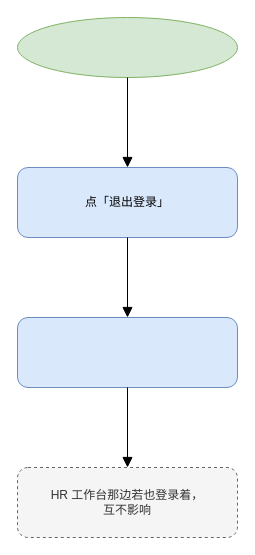
The diagram is 255 pixels wide and 555 high, and some of its shapes have lost their labels. Each missing label, with the centre of its shape:
在候选人端左侧导航底部 确认当前登录的账号: the point at 127,47
本端的登录状态被清除， 回到候选人登录页: the point at 127,352
